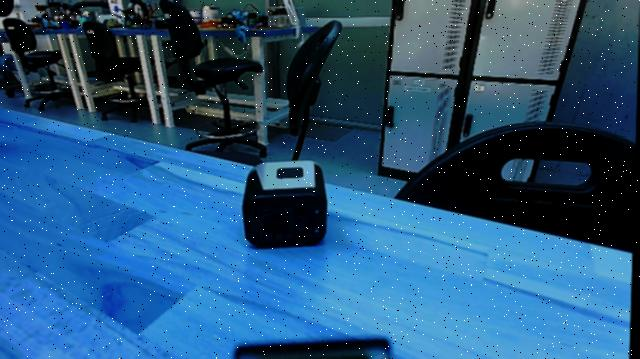adapter: (241, 159, 329, 251)
